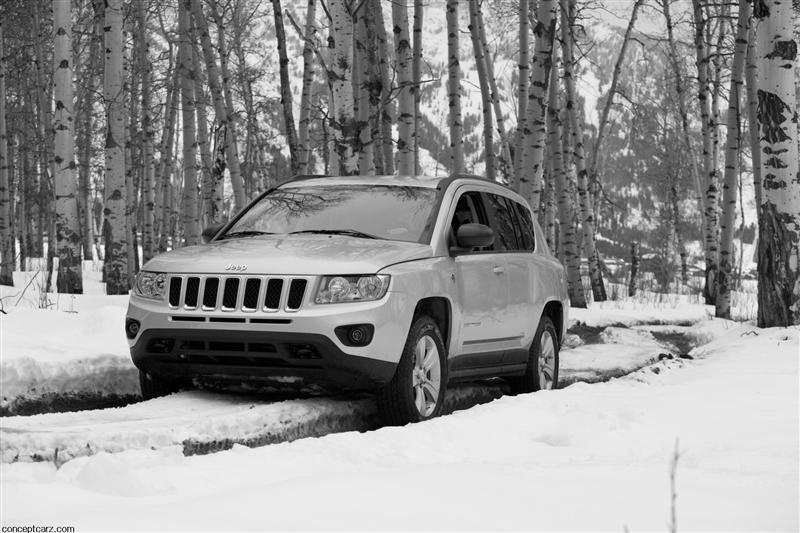car: (124, 177, 567, 429)
